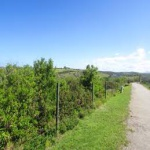Forest: (2, 65, 96, 118)
Road: (121, 72, 150, 150)
